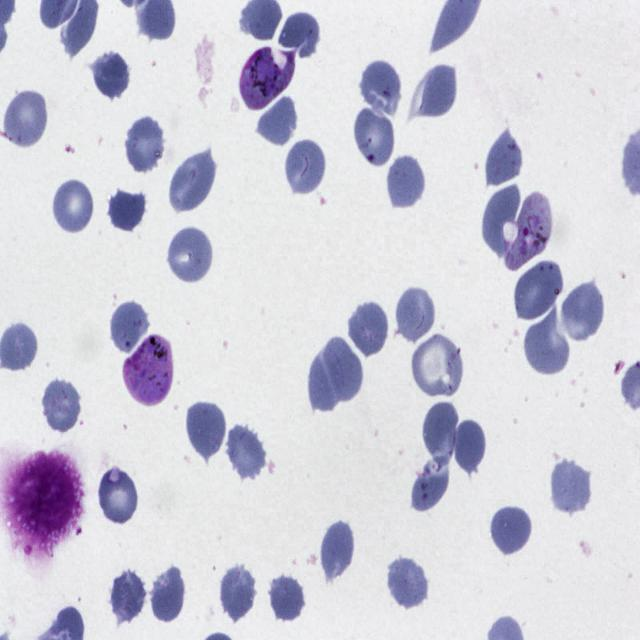difficult: (124, 334, 174, 408)
red blood cell: (412, 332, 464, 402), (522, 310, 572, 379), (512, 257, 564, 323), (168, 146, 218, 212), (165, 223, 215, 286), (560, 278, 605, 344), (1, 87, 48, 149), (548, 454, 594, 516), (122, 113, 167, 175), (482, 184, 520, 257), (284, 136, 328, 199), (96, 464, 140, 527), (184, 398, 227, 462), (346, 299, 391, 360), (414, 61, 459, 121), (422, 398, 461, 467), (384, 553, 430, 611), (395, 283, 438, 345), (51, 177, 96, 236), (323, 336, 363, 402), (358, 57, 401, 118), (225, 421, 268, 482), (108, 298, 151, 358), (488, 502, 534, 558), (319, 516, 356, 585), (150, 562, 188, 626), (307, 347, 343, 414), (41, 376, 82, 434), (410, 453, 450, 512), (219, 562, 257, 624), (486, 127, 524, 189), (386, 153, 426, 211), (354, 108, 394, 166), (89, 47, 132, 100), (109, 566, 148, 624), (279, 10, 323, 60), (452, 416, 488, 477), (106, 183, 148, 234), (256, 93, 296, 146), (268, 572, 306, 623)
ring: (504, 192, 552, 271)
trophozoite: (239, 46, 296, 112)
